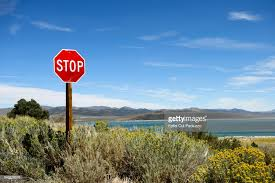Stop: (46, 48, 100, 95)
